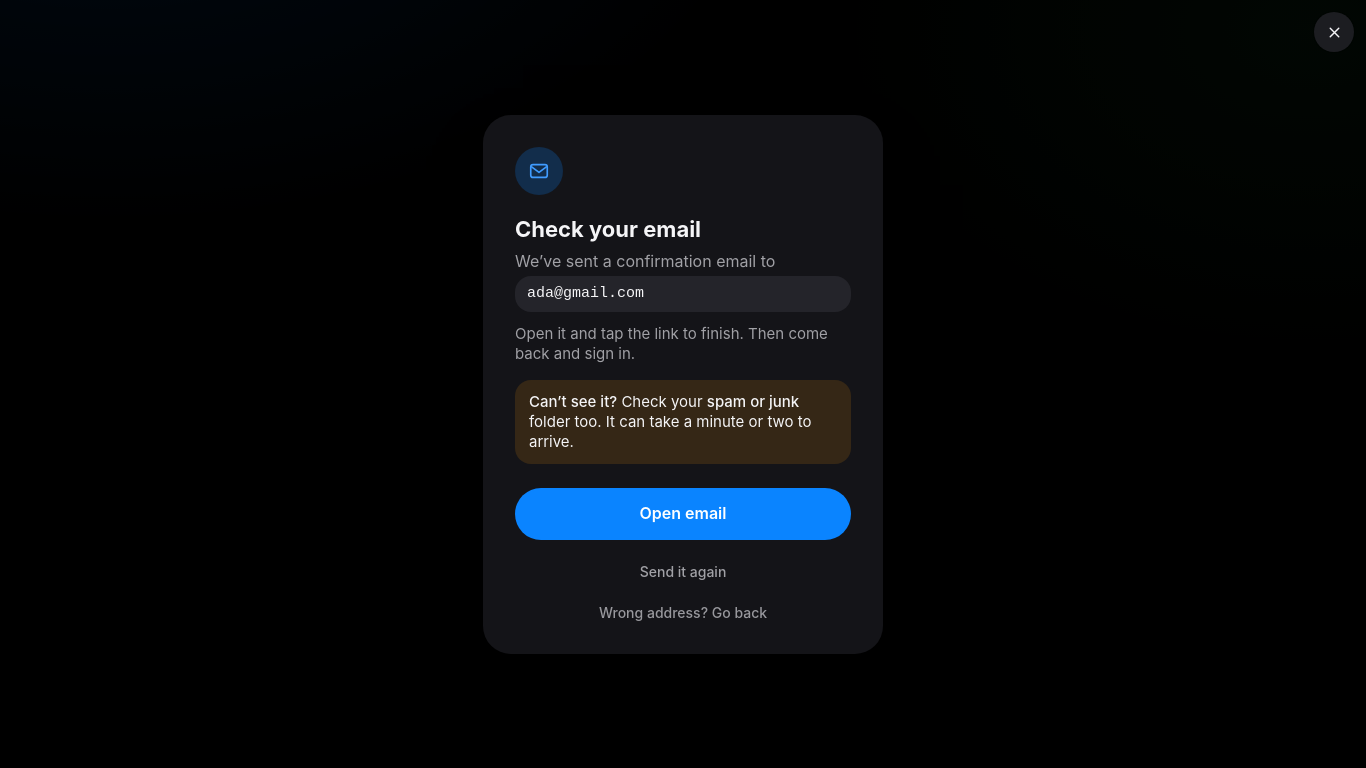
Scenario: sending it again › says what went wrong when the email service refuses
Click the button "Send it again" at (683, 571), box [515, 552, 851, 590]
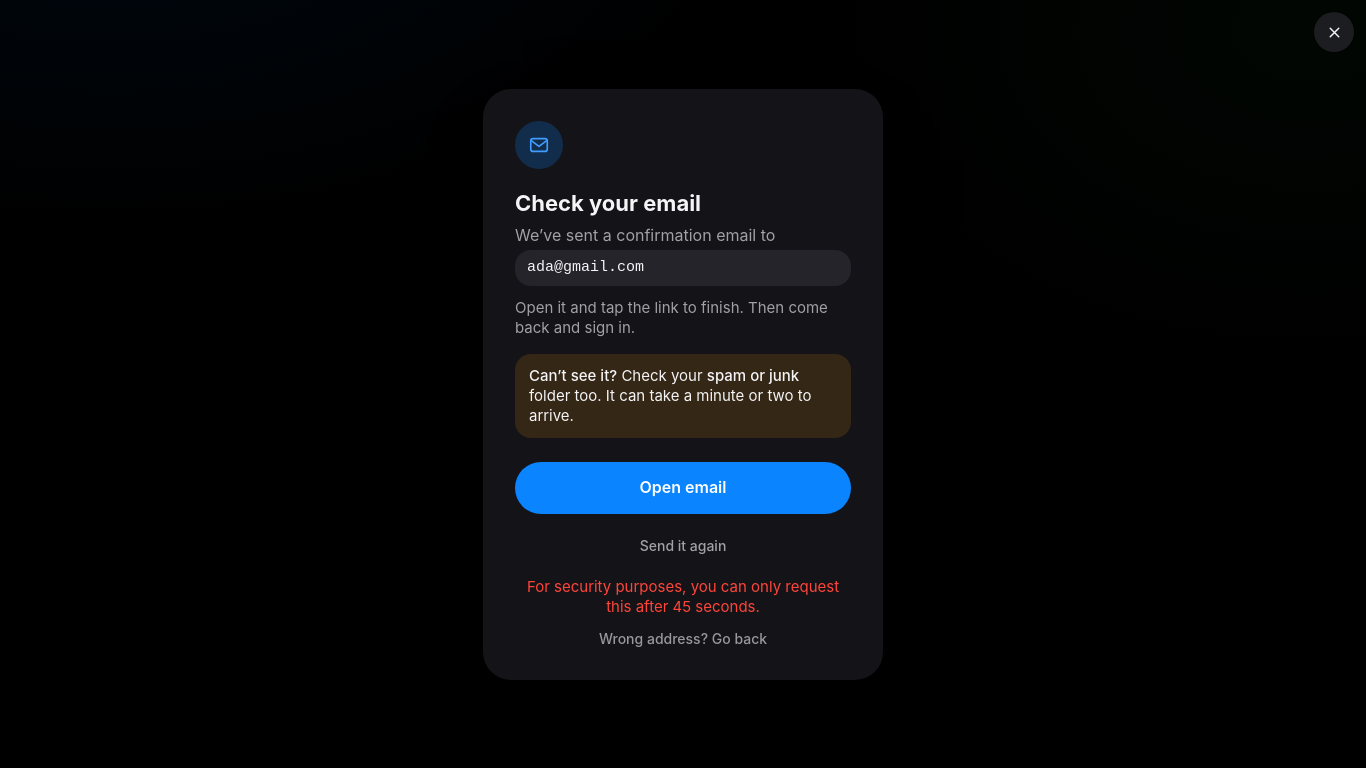
Result: the message shows "only request this after 45 seconds" at [527, 576, 839, 616]
